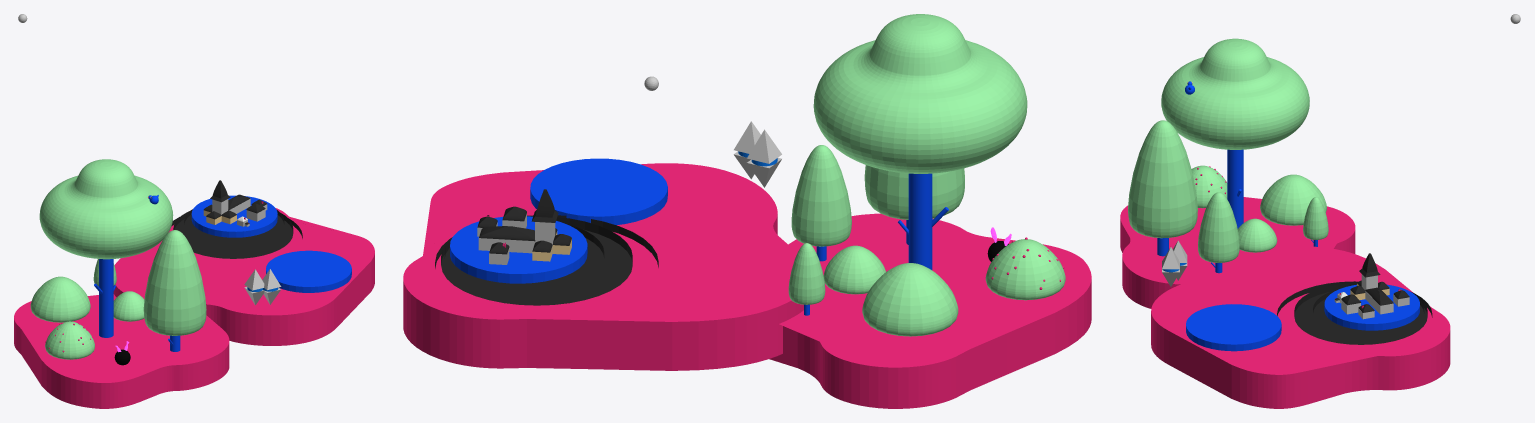
File: extraordinairetest.fbx
3 renders of one model, left to right at view 1: azimuth 30°, elevation 25°; view 2: azimuth 150°, elevation 25°; view 3: azimuth 270°, elevation 25°, orthographic. The views are drawn at different scales.
Parts seen in each view (by area): view 1: Couvercle_1_2, Couvercle_1, Lathe_7, Lathe_4, Disque_1, Lathe_5, Disque_1_4, Disque_1_2, Lathe_3, Tronc_14, Disque_1_3, Lathe; view 2: Couvercle_1, Couvercle_1_2, Lathe_7, Disque_1, Lathe_5, Lathe_2, Disque_1_2, Disque_1_4, Lathe_3, Lathe_4, Disque_1_3, Tronc_14 (+5 smaller); view 3: Couvercle_1, Lathe_7, Couvercle_1_2, Lathe_4, Disque_1, Lathe_2, Lathe_5, Disque_1_2, Disque_1_4, Disque_1_3, Tronc_14, Lathe (+3 smaller).
Boxes of the visible parts, left/top/right/bottom form: Couvercle_1_2: left=14, top=294, right=229, bottom=408; Couvercle_1: left=113, top=208, right=374, bottom=345; Lathe_7: left=39, top=159, right=173, bottom=259; Lathe_4: left=143, top=230, right=206, bottom=335; Disque_1: left=266, top=250, right=351, bottom=292; Lathe_5: left=30, top=276, right=90, bottom=322; Disque_1_4: left=173, top=211, right=293, bottom=258; Disque_1_2: left=191, top=195, right=277, bottom=237; Lathe_3: left=45, top=321, right=94, bottom=359; Tronc_14: left=99, top=259, right=113, bottom=337; Disque_1_3: left=184, top=209, right=284, bottom=246; Lathe: left=113, top=291, right=144, bottom=321; Couvercle_1: left=403, top=163, right=803, bottom=370; Couvercle_1_2: left=769, top=213, right=1091, bottom=408; Lathe_7: left=813, top=14, right=1027, bottom=173; Disque_1: left=530, top=158, right=667, bottom=225; Lathe_5: left=862, top=263, right=958, bottom=336; Lathe_2: left=791, top=145, right=851, bottom=246; Disque_1_2: left=450, top=216, right=587, bottom=283; Disque_1_4: left=441, top=216, right=632, bottom=305; Lathe_3: left=985, top=239, right=1065, bottom=300; Lathe_4: left=864, top=165, right=964, bottom=219; Disque_1_3: left=444, top=223, right=604, bottom=293; Tronc_14: left=908, top=173, right=932, bottom=269; Couvercle_1: left=1151, top=246, right=1450, bottom=408; Lathe_7: left=1161, top=38, right=1309, bottom=149; Couvercle_1_2: left=1120, top=197, right=1355, bottom=308; Lathe_4: left=1128, top=120, right=1197, bottom=238; Disque_1: left=1186, top=304, right=1281, bottom=351; Lathe_2: left=1198, top=192, right=1239, bottom=262; Lathe_5: left=1260, top=174, right=1326, bottom=225; Disque_1_2: left=1324, top=284, right=1419, bottom=330; Disque_1_4: left=1294, top=282, right=1427, bottom=344; Disque_1_3: left=1313, top=288, right=1424, bottom=337; Tronc_14: left=1227, top=149, right=1243, bottom=228; Lathe: left=1237, top=218, right=1277, bottom=252.
Bounding box in the file's own units: 134 × 87.06 × 116.
